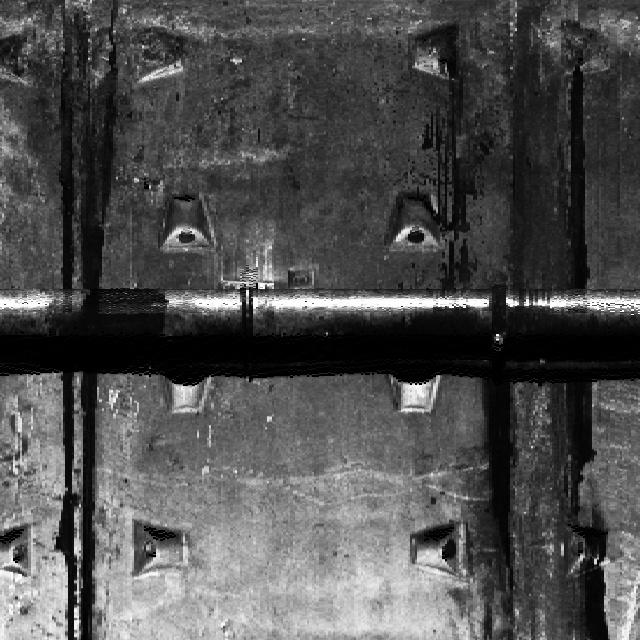leakage: (432, 1, 639, 289), (448, 373, 611, 639), (46, 3, 114, 286), (42, 370, 102, 639)
